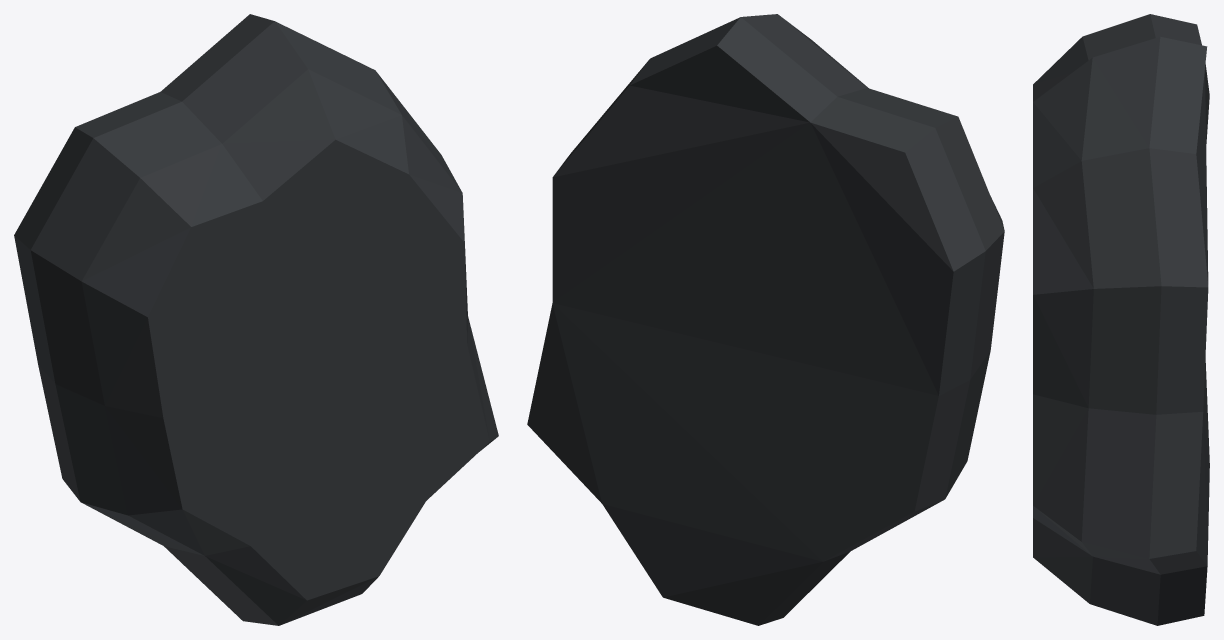
Rendered from FERNSTONE_NIGHT.shadow.glb.
3 renders of one model, left to right at view 1: azimuth 30°, elevation 25°; view 2: azimuth 150°, elevation 25°; view 3: azimuth 270°, elevation 25°, orthographic. The views are drawn at different scales.
Parts seen in each view (by area): view 1: Body_Mesh; view 2: Body_Mesh; view 3: Body_Mesh.
Boxes of the visible parts, bbox=[...] form: Body_Mesh: bbox=[14, 14, 498, 625]; Body_Mesh: bbox=[527, 14, 1004, 625]; Body_Mesh: bbox=[1033, 14, 1209, 625].
Bounding box in the file's own units: 0.2861 × 0.3628 × 0.1018.
1 material, 1 textured.
